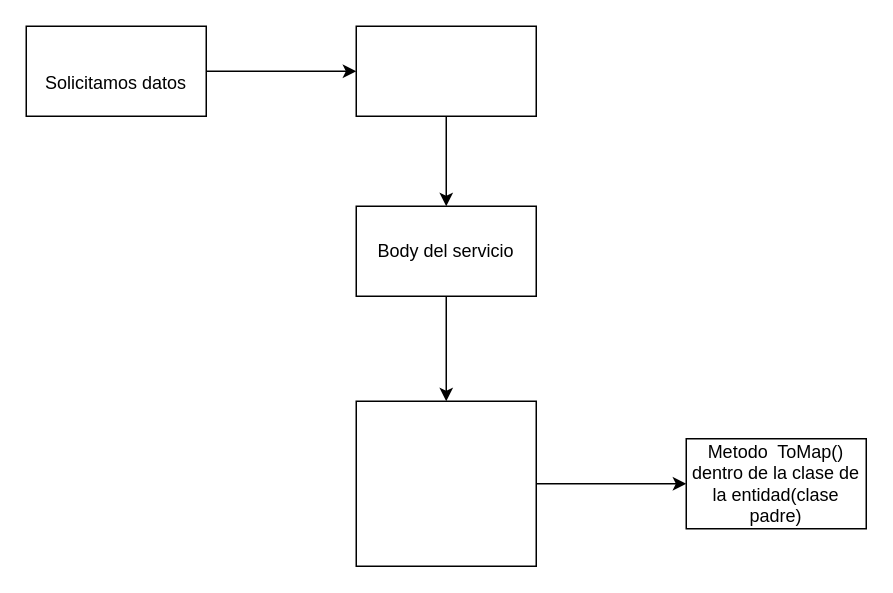
The diagram is 893 pixels wide and 593 high, and some of its shapes have lost their labels. Here are the shapes that lost their labels. From the top down, the centre of each, then its label:
At (445,70): "Service(crear cliente)".
At (445,483): "Se crea la entidad que tienen los parametros que se van a pedir en el body".
